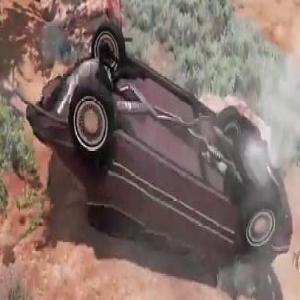fatal: (21, 15, 295, 282)
